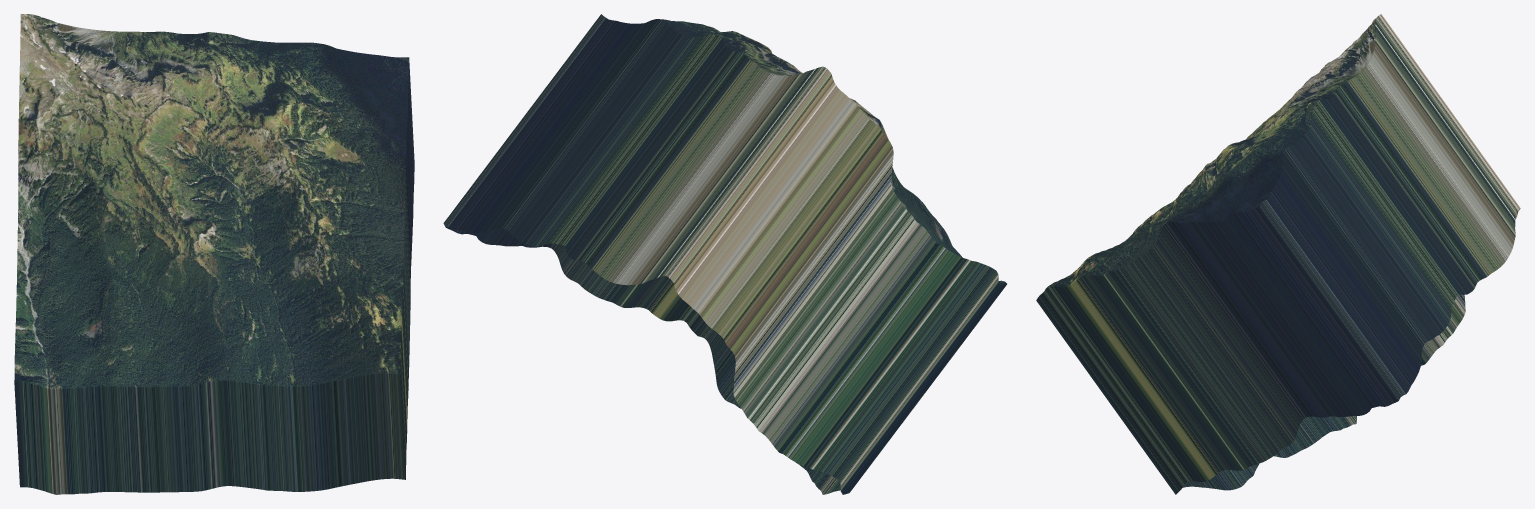
The picture shows the model from 3 angles, left to right: view 1: azimuth 30°, elevation 25°; view 2: azimuth 150°, elevation 25°; view 3: azimuth 270°, elevation 25°; orthographic projection. The views are drawn at different scales.
Bounding box in the file's own units: 6172 × 5551 × 6072.
1 material, 1 textured.
